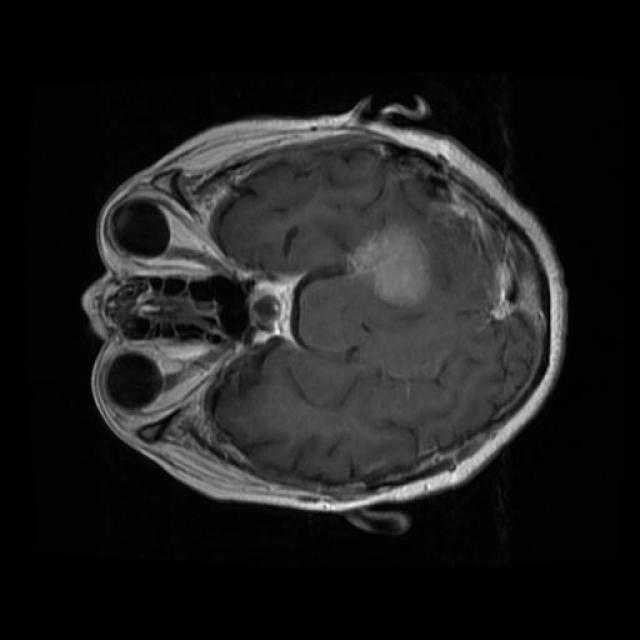Meningioma: (348, 223, 432, 308)
